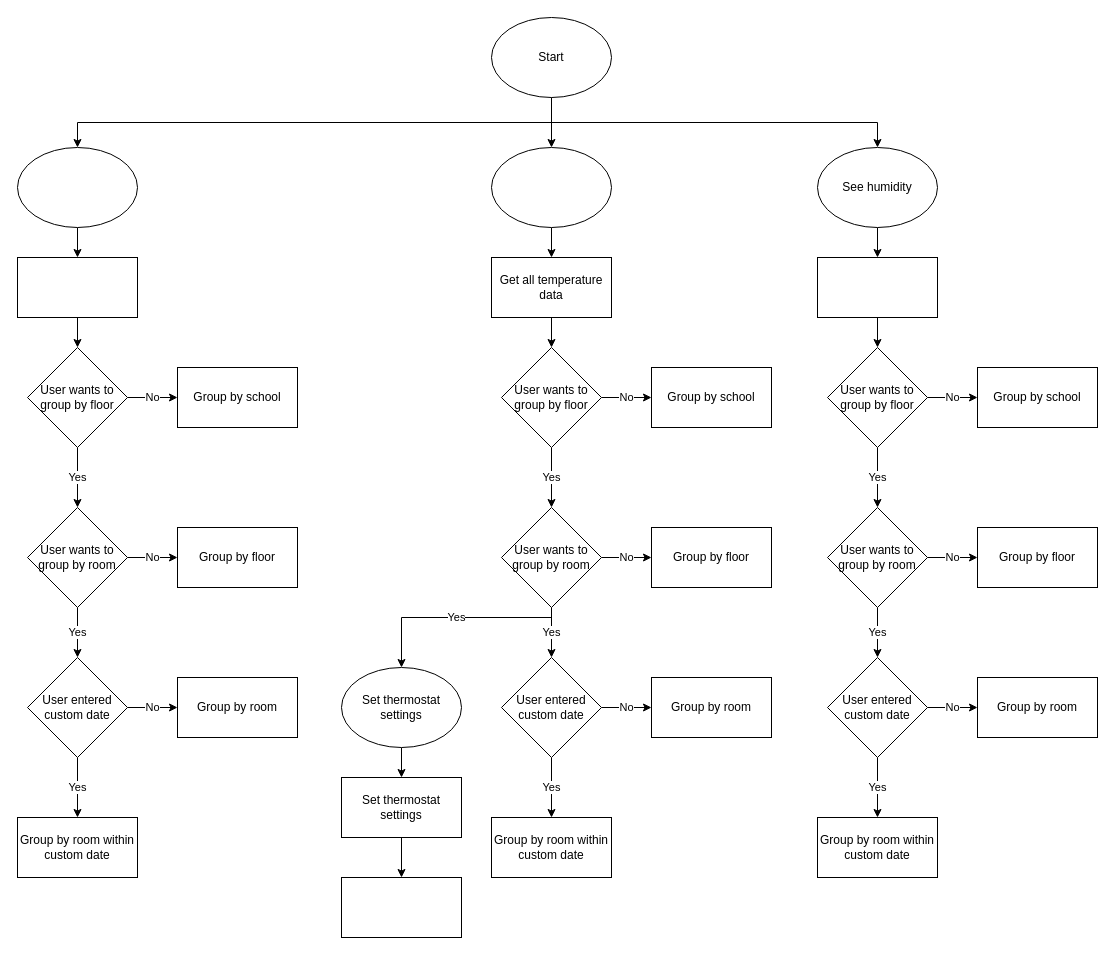
Image size: 1115x955. Some labels were removed from this diagram. Here are the shapes that lost their labels. From the top down, the box of each, then its label:
(16, 146, 138, 228): See power
(490, 146, 612, 228): See temperature
(16, 256, 138, 318): Get all power data
(816, 256, 938, 318): Get all humidity data
(340, 876, 462, 938): Publish thermostat settings over MQTT
